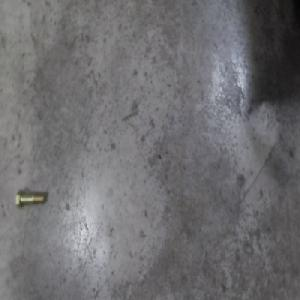Bolt: (15, 188, 44, 209)
